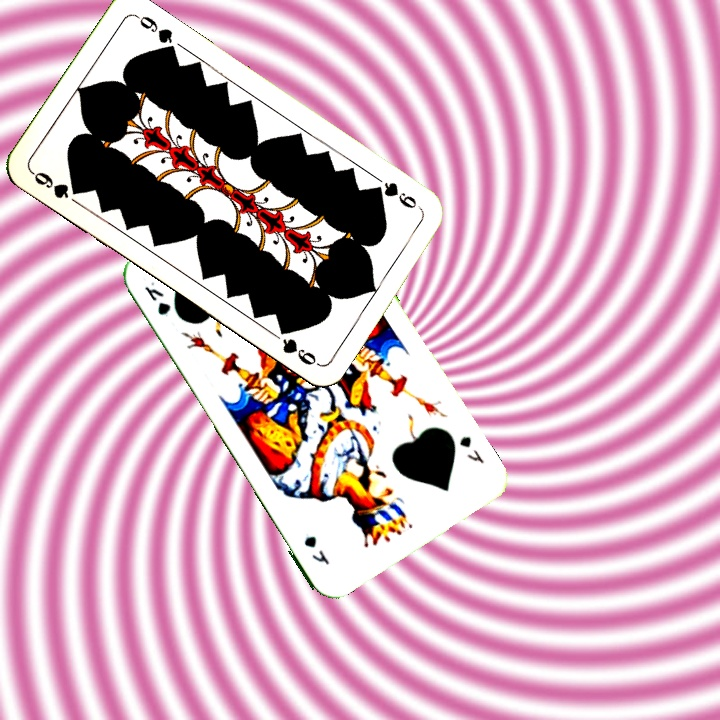G9: (367, 173, 424, 213), (27, 167, 85, 202)
GK: (140, 277, 174, 321), (455, 432, 487, 467)
